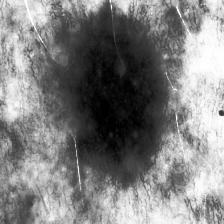Benign Marking or Mole: (57, 7, 168, 174)
